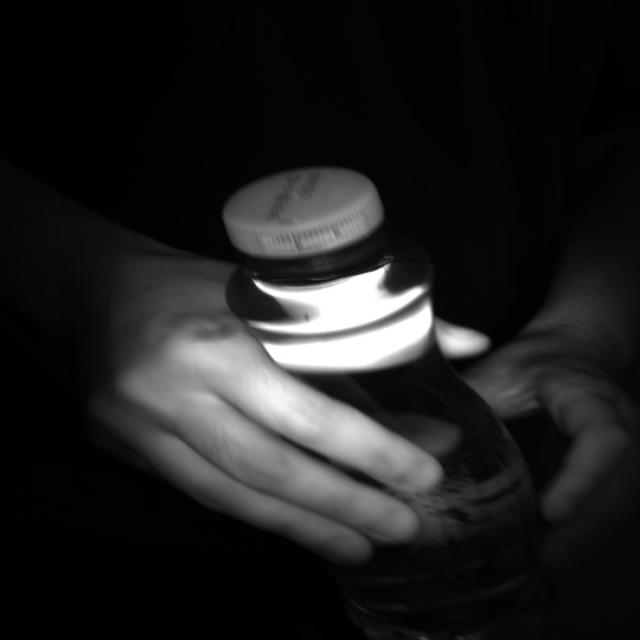Not Good: (222, 168, 391, 272)
